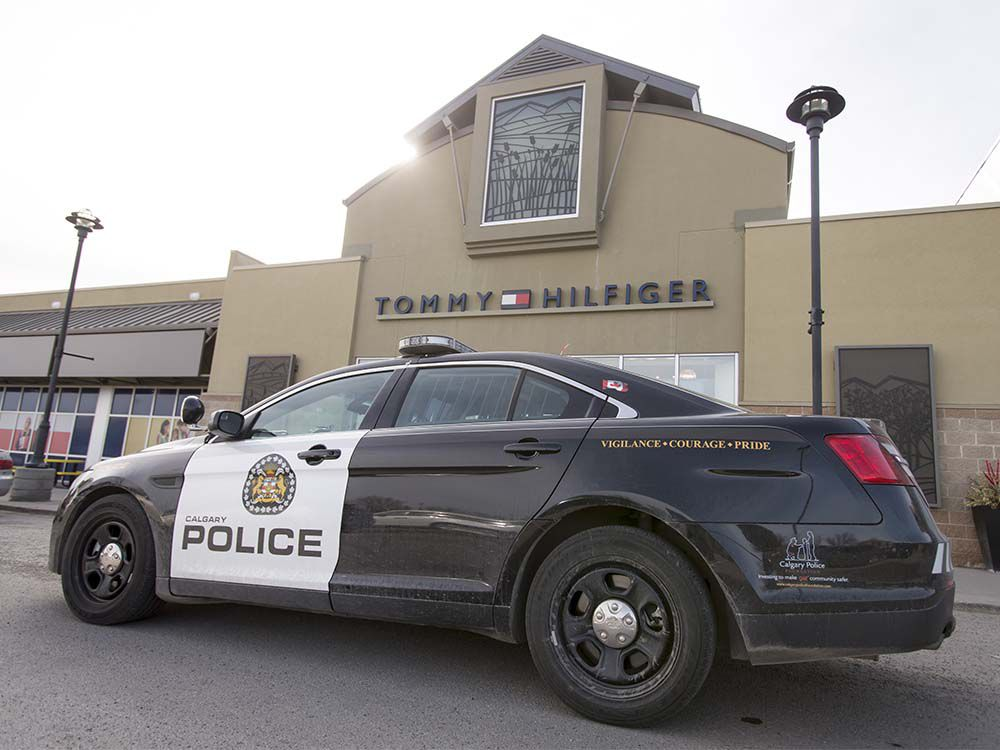special: (46, 332, 960, 730)
